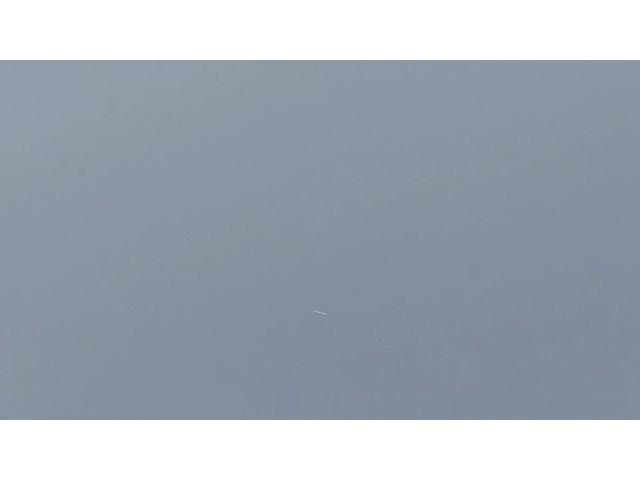Anti-Drone: (314, 308, 330, 316)
